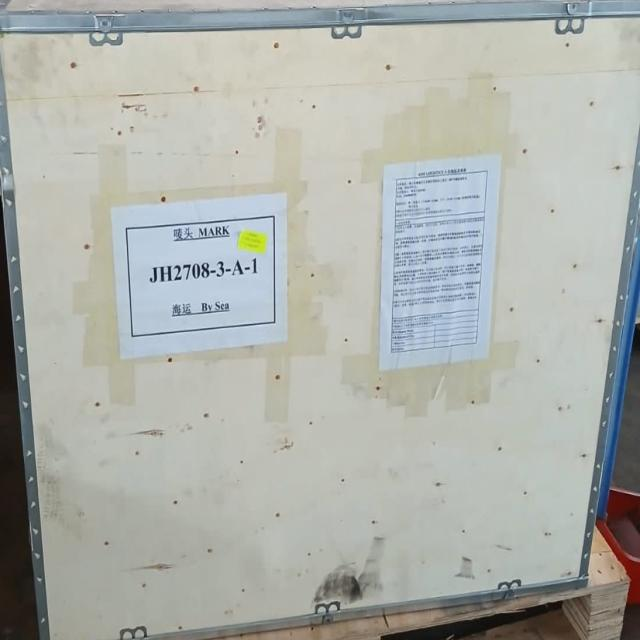export_mark_label: (106, 188, 303, 379)
wooden_box: (0, 3, 640, 640)
